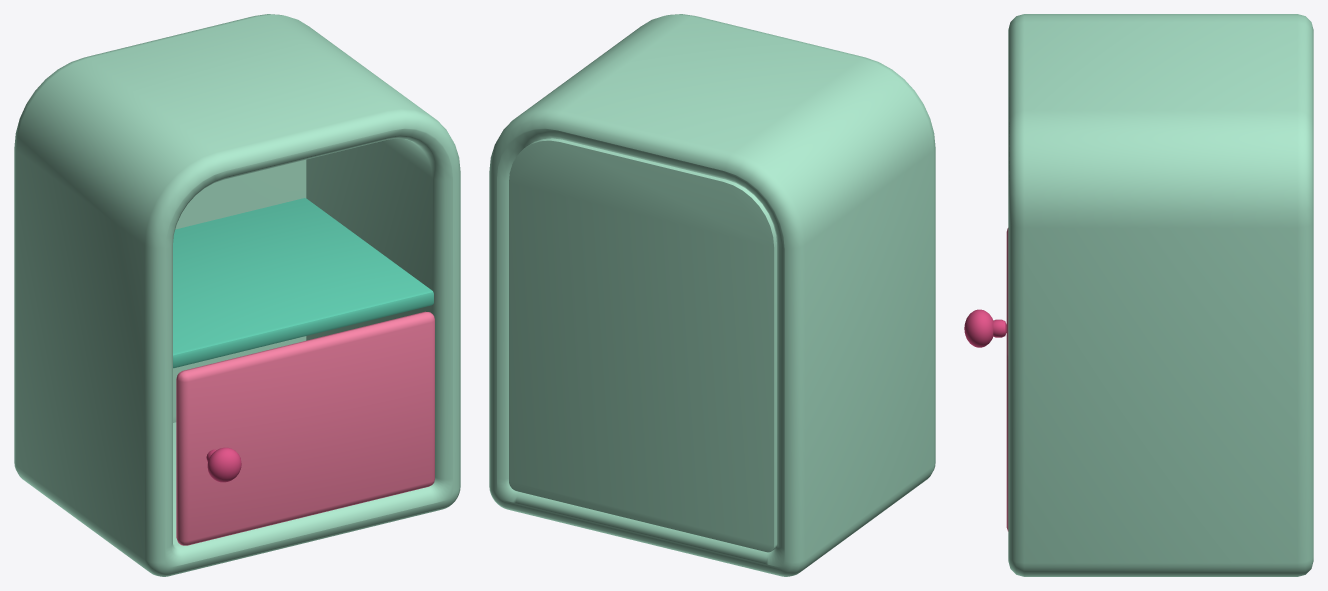
Rendered from criado_arco_porta_menta.glb.
The picture shows the model from 3 angles, left to right: view 1: azimuth 30°, elevation 25°; view 2: azimuth 150°, elevation 25°; view 3: azimuth 270°, elevation 25°; orthographic projection. The views are drawn at different scales.
Visible parts, largest first — view 1: criado_arco_porta_menta, porta_1; view 2: criado_arco_porta_menta; view 3: criado_arco_porta_menta, porta_1.
Boxes of the visible parts, x1=… form: criado_arco_porta_menta: x1=14, y1=14, x2=460, y2=576; porta_1: x1=176, y1=311, x2=434, y2=545; criado_arco_porta_menta: x1=489, y1=14, x2=935, y2=576; criado_arco_porta_menta: x1=1008, y1=14, x2=1313, y2=576; porta_1: x1=964, y1=228, x2=1008, y2=531.
Size of the model in its own units: 0.48 by 0.6 by 0.4346.
Materials: 1 (1 with a texture image).
